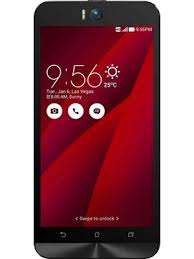asus: (27, 1, 163, 257)
